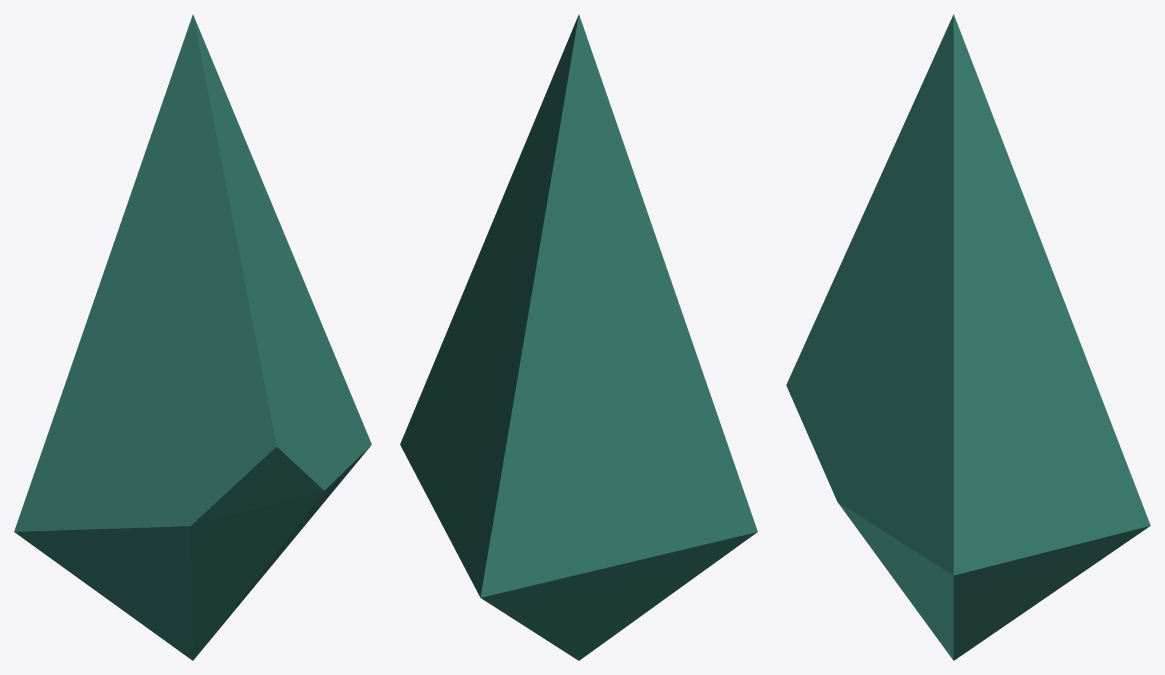
Rendered from AM_Crystal_02.fbx.
The picture shows the model from 3 angles, left to right: view 1: azimuth 30°, elevation 25°; view 2: azimuth 150°, elevation 25°; view 3: azimuth 270°, elevation 25°; orthographic projection.
Visible parts, largest first — view 1: AM_Crystal_02; view 2: AM_Crystal_02; view 3: AM_Crystal_02.
Part boxes in pixels (box(x1,y1,x2,y2)): AM_Crystal_02: box(14, 14, 371, 660); AM_Crystal_02: box(400, 14, 757, 660); AM_Crystal_02: box(786, 14, 1150, 660).
Bounding box in the file's own units: 4.77 × 4.21 × 8.25.
